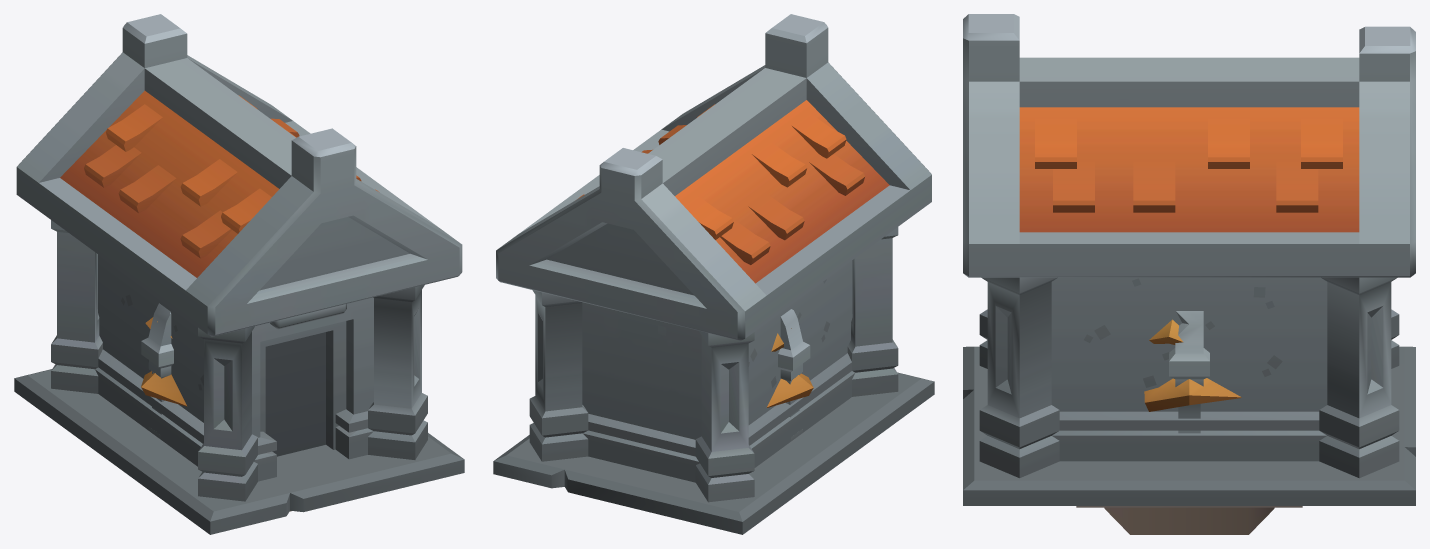
Rendered from halloween.glb.
3 renders of one model, left to right at view 1: azimuth 30°, elevation 25°; view 2: azimuth 150°, elevation 25°; view 3: azimuth 270°, elevation 25°, orthographic. The views are drawn at different scales.
Visible parts, largest first — view 1: crypt, arch, tree_pine_yellow_large; view 2: crypt, arch, tree_pine_yellow_large; view 3: crypt, floor_dirt_grave, arch, tree_pine_yellow_large.
Part boxes in pixels (x1,y1,x2,y2): crypt: [14, 14, 464, 534]; arch: [141, 303, 173, 439]; tree_pine_yellow_large: [141, 317, 187, 406]; crypt: [493, 14, 934, 534]; arch: [778, 309, 810, 441]; tree_pine_yellow_large: [767, 328, 813, 407]; crypt: [963, 14, 1415, 505]; floor_dirt_grave: [1104, 507, 1274, 534]; arch: [1169, 311, 1209, 433]; tree_pine_yellow_large: [1144, 319, 1241, 411].
Size of the model in its own units: 6 by 9.5 by 8.
Materials: 1 (1 with a texture image).
